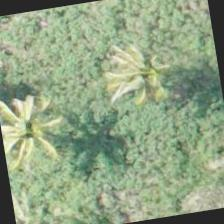Kelapa_Sawit: (94, 19, 198, 122), (0, 73, 72, 173), (9, 172, 72, 223)
